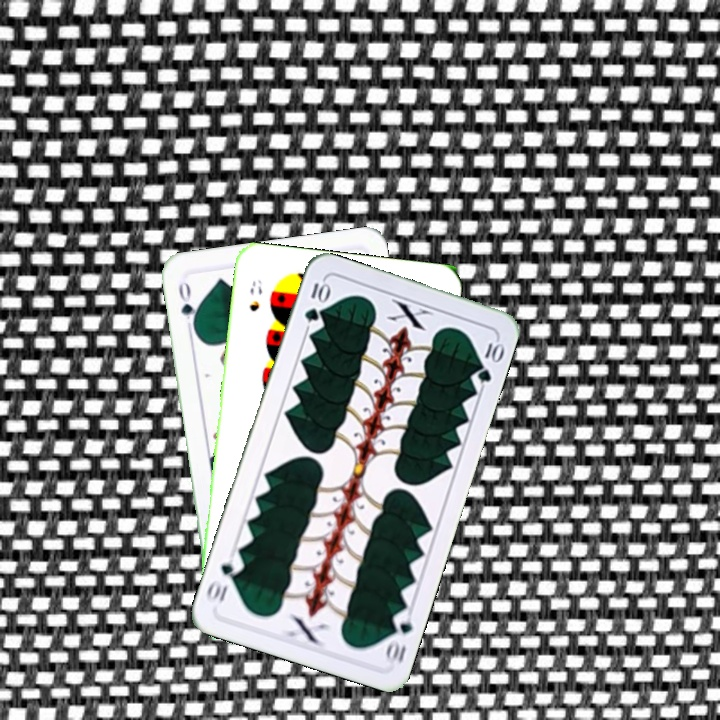G10: (381, 607, 415, 667), (300, 276, 331, 325)
GO: (174, 276, 200, 336)
S8: (245, 275, 265, 314)
